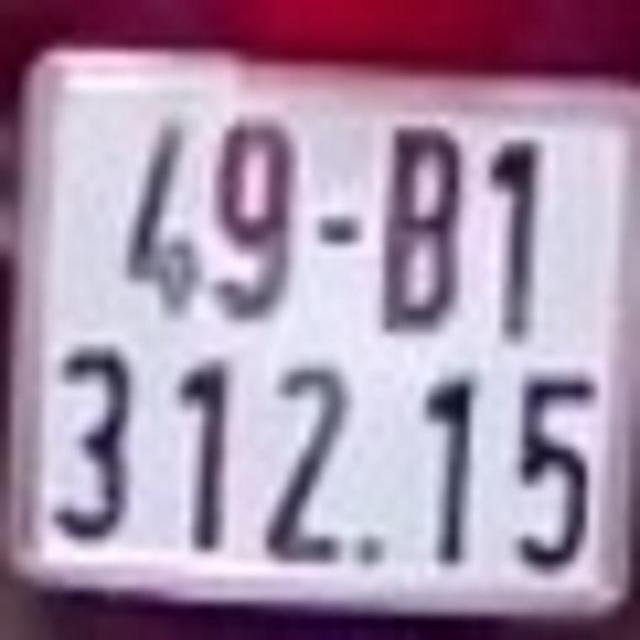1: (421, 377, 471, 562), (181, 360, 229, 550), (489, 136, 531, 340)
2: (270, 362, 340, 562)
3: (56, 349, 125, 542)
4: (133, 128, 194, 314)
5: (520, 372, 594, 568)
9: (216, 120, 286, 316)
B: (378, 115, 458, 332)
